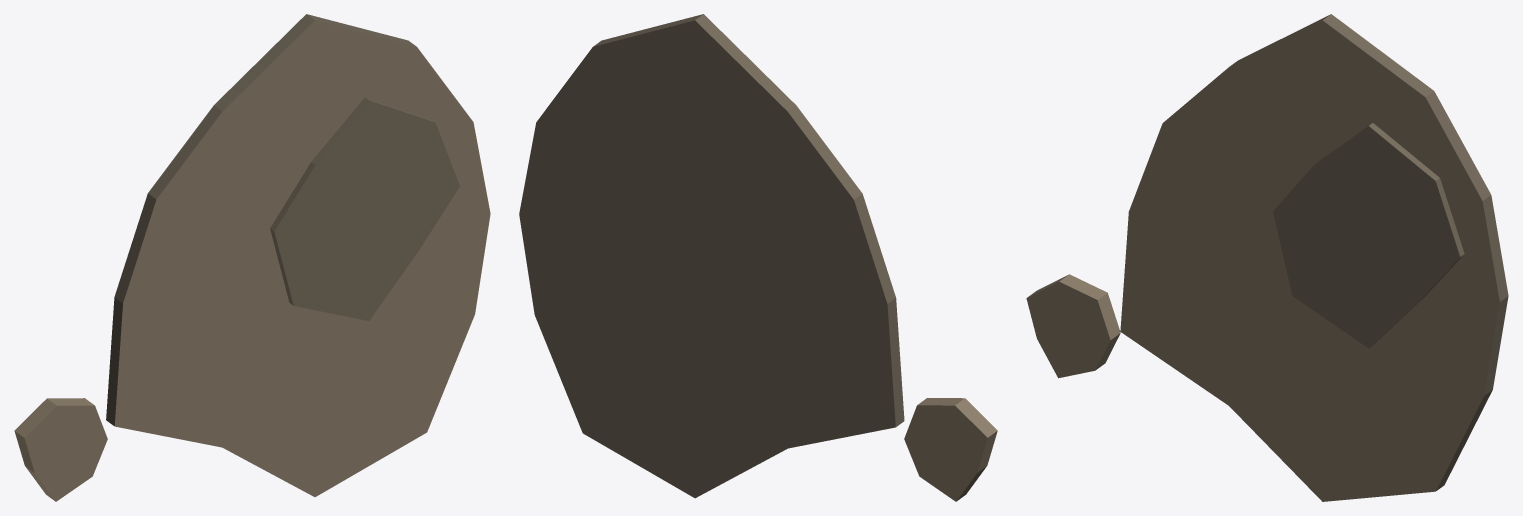
File: furniture_stain.glb
3 renders of one model, left to right at view 1: azimuth 30°, elevation 25°; view 2: azimuth 150°, elevation 25°; view 3: azimuth 330°, elevation 25°, orthographic.
Visible parts, largest first — view 1: furniture_stain; view 2: furniture_stain; view 3: furniture_stain.
Part boxes in pixels (box(x1,y1,x2,y2)): furniture_stain: box(14, 14, 490, 501); furniture_stain: box(519, 14, 997, 501); furniture_stain: box(1026, 14, 1508, 501).
Bounding box in the file's own units: 0.1874 × 0.1827 × 0.009.
